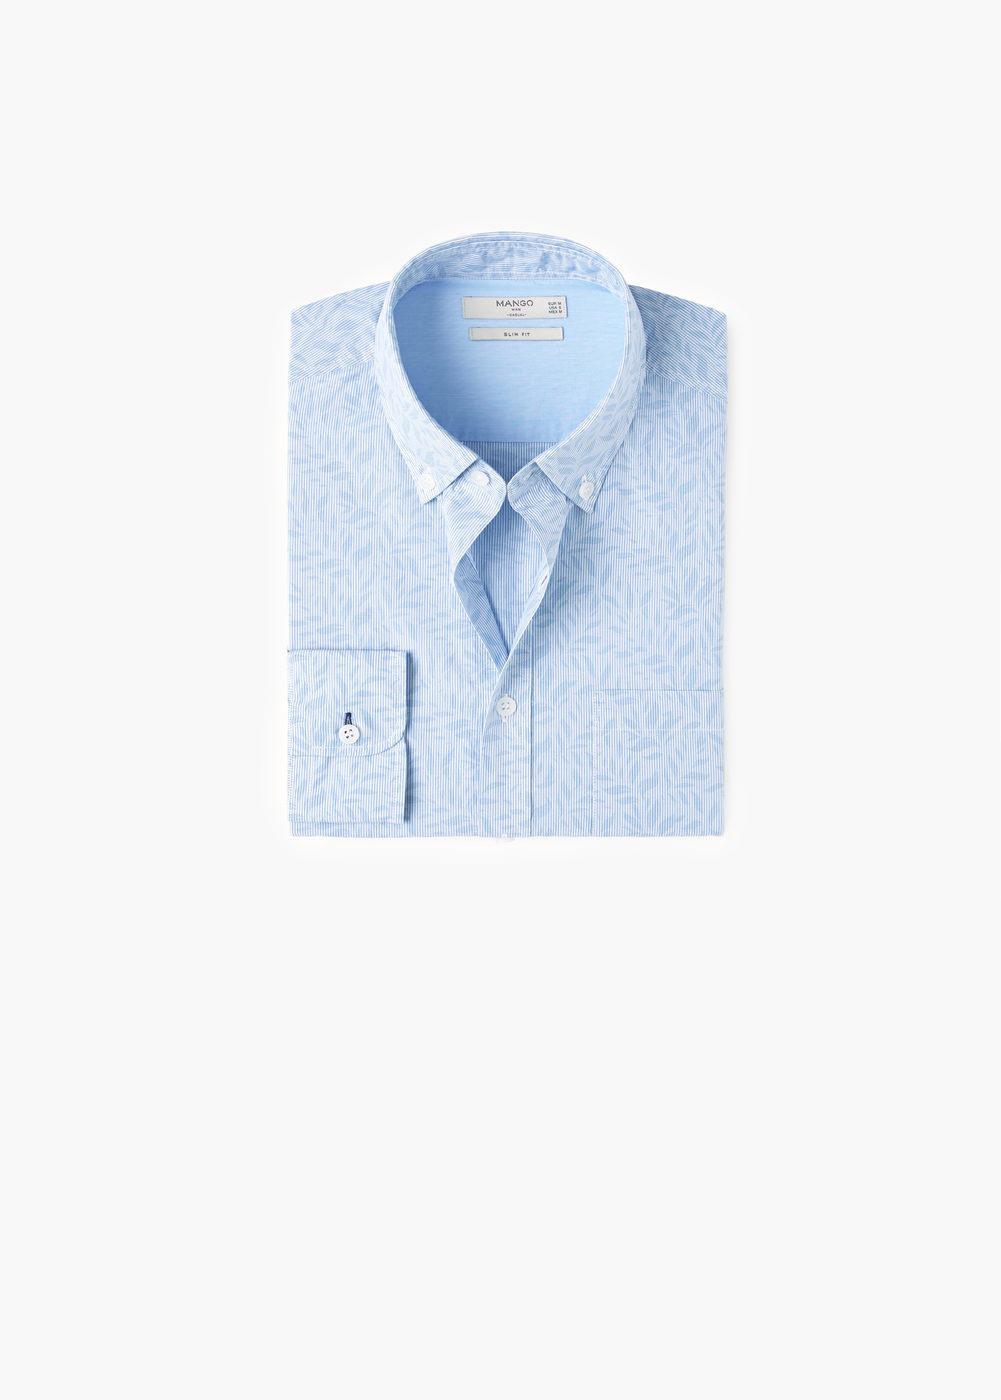teeshirt: (240, 215, 759, 855)
